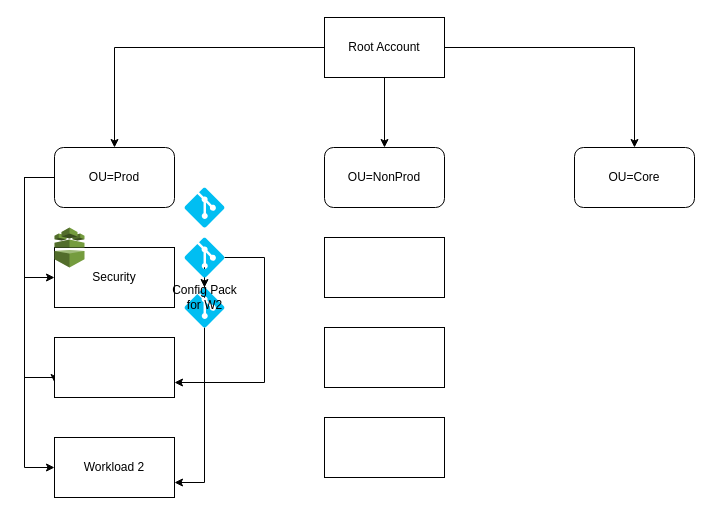
This 712x515 diagram has some shape labels left out. Each missing label, with the centre of its shape:
"Common Config Pack" goes at point (204, 207).
"Config Pack for W1" goes at point (204, 257).
"Workload 1" goes at point (114, 367).
